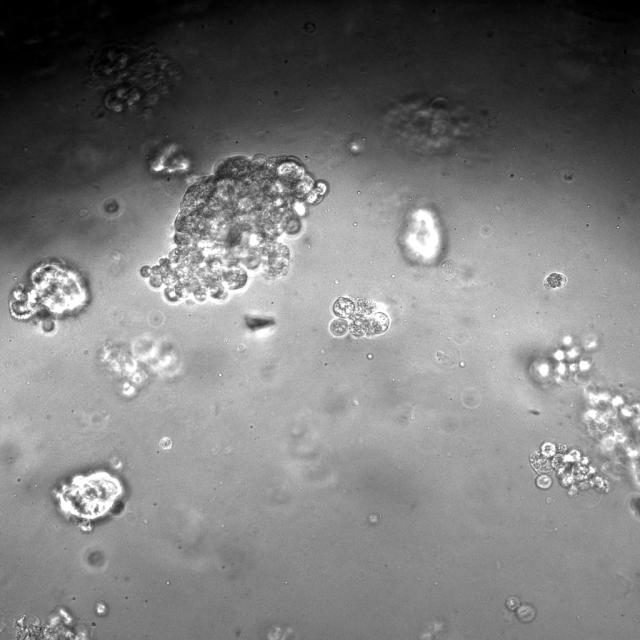organoid: (141, 155, 328, 301), (528, 332, 639, 486), (8, 257, 91, 335), (88, 43, 180, 113), (384, 95, 474, 154), (98, 337, 180, 397), (54, 468, 126, 533), (529, 441, 610, 496), (398, 199, 446, 266), (329, 296, 389, 337), (14, 606, 88, 639), (147, 143, 191, 177), (505, 595, 536, 623), (543, 272, 567, 289), (87, 550, 104, 567), (102, 198, 119, 214), (629, 493, 639, 520), (94, 601, 109, 617)
